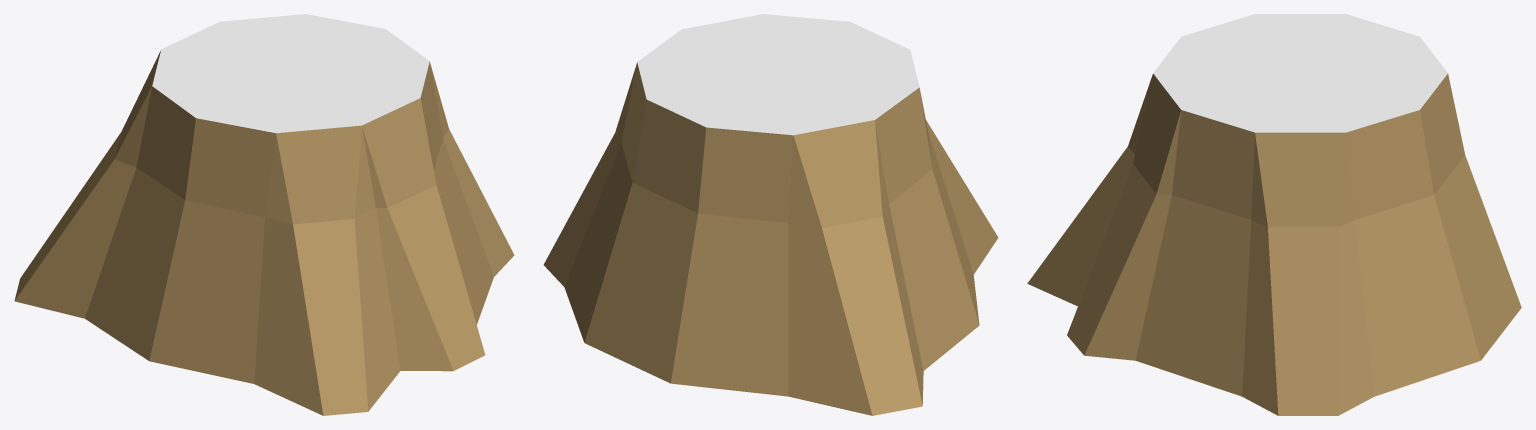
File: Oak_Stump_Snow_02_LOD.fbx
3 renders of one model, left to right at view 1: azimuth 30°, elevation 25°; view 2: azimuth 150°, elevation 25°; view 3: azimuth 270°, elevation 25°, orthographic. The views are drawn at different scales.
Parts seen in each view (by area): view 1: Oak_Stump_Snow_02_LOD0; view 2: Oak_Stump_Snow_02_LOD0; view 3: Oak_Stump_Snow_02_LOD0.
Part boxes in pixels (box(x1,y1,x2,y2)): Oak_Stump_Snow_02_LOD0: box(14, 14, 514, 415); Oak_Stump_Snow_02_LOD0: box(543, 14, 998, 415); Oak_Stump_Snow_02_LOD0: box(1027, 14, 1521, 415).
Size of what is drawn, in the model's own units: 142 by 73.64 by 139.
